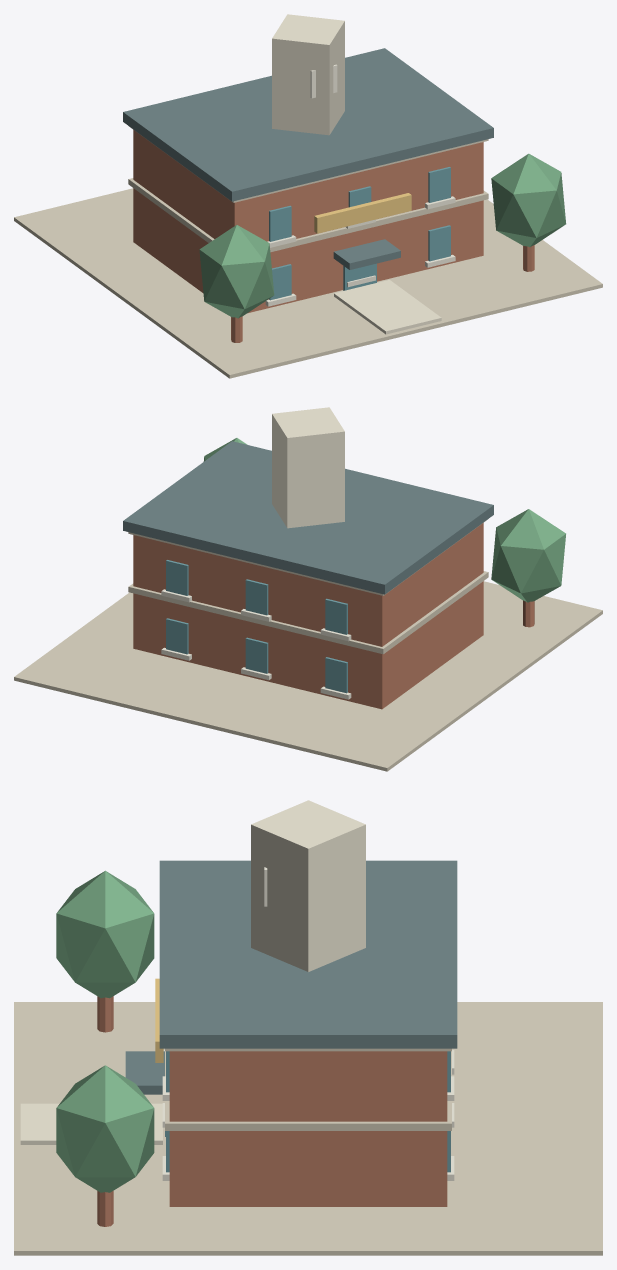
The model's file is civic_education.glb.
3 views of the same model, one above another, from view 1: azimuth 30°, elevation 25°; view 2: azimuth 150°, elevation 25°; view 3: azimuth 270°, elevation 25° (orthographic). The views are drawn at different scales.
Parts seen in each view (by area): view 1: Paved civic lot.003, Copper roof.003, Masonry shell.003, Clock tower, Icosphere, Icosphere.001, Front path.003, Limestone course.004, School sign, Entrance canopy.003, Recessed glazing.030, Recessed glazing.034 (+4 smaller); view 2: Paved civic lot.003, Masonry shell.003, Copper roof.003, Clock tower, Icosphere, Limestone course.004, Recessed glazing.033, Recessed glazing.027, Recessed glazing.031, Recessed glazing.035, Recessed glazing.029, Recessed glazing.025 (+1 smaller); view 3: Paved civic lot.003, Copper roof.003, Masonry shell.003, Clock tower, Icosphere.001, Icosphere, Limestone course.004, Front path.003, Entrance canopy.003, Limestone course.005.
Part boxes in pixels (x1,y1,x2,y2): Paved civic lot.003: [14, 188, 602, 378]; Copper roof.003: [123, 48, 493, 201]; Masonry shell.003: [133, 130, 483, 312]; Clock tower: [272, 14, 344, 135]; Icosphere: [199, 225, 274, 318]; Icosphere.001: [491, 153, 566, 247]; Front path.003: [334, 280, 441, 334]; Limestone course.004: [128, 178, 488, 252]; School sign: [314, 193, 411, 233]; Entrance canopy.003: [333, 239, 400, 269]; Recessed glazing.030: [269, 205, 291, 241]; Recessed glazing.034: [428, 167, 450, 202]; Paved civic lot.003: [14, 581, 602, 771]; Masonry shell.003: [133, 523, 483, 709]; Copper roof.003: [123, 441, 493, 594]; Clock tower: [272, 407, 344, 528]; Icosphere: [491, 509, 565, 602]; Limestone course.004: [128, 571, 488, 654]; Recessed glazing.033: [245, 579, 268, 615]; Recessed glazing.027: [245, 637, 268, 673]; Recessed glazing.031: [325, 598, 347, 634]; Recessed glazing.035: [166, 560, 188, 595]; Recessed glazing.029: [166, 618, 188, 654]; Recessed glazing.025: [325, 657, 347, 693]; Paved civic lot.003: [14, 1002, 602, 1255]; Copper roof.003: [159, 860, 457, 1048]; Masonry shell.003: [169, 1051, 447, 1206]; Clock tower: [251, 800, 365, 971]; Icosphere.001: [56, 1065, 154, 1192]; Icosphere: [56, 870, 154, 998]; Limestone course.004: [165, 1051, 451, 1130]; Front path.003: [20, 1103, 162, 1144]; Entrance canopy.003: [125, 1051, 164, 1094]; Limestone course.005: [165, 1048, 451, 1051].
Size of the model in its own units: 8.7 by 5 by 8.7.
